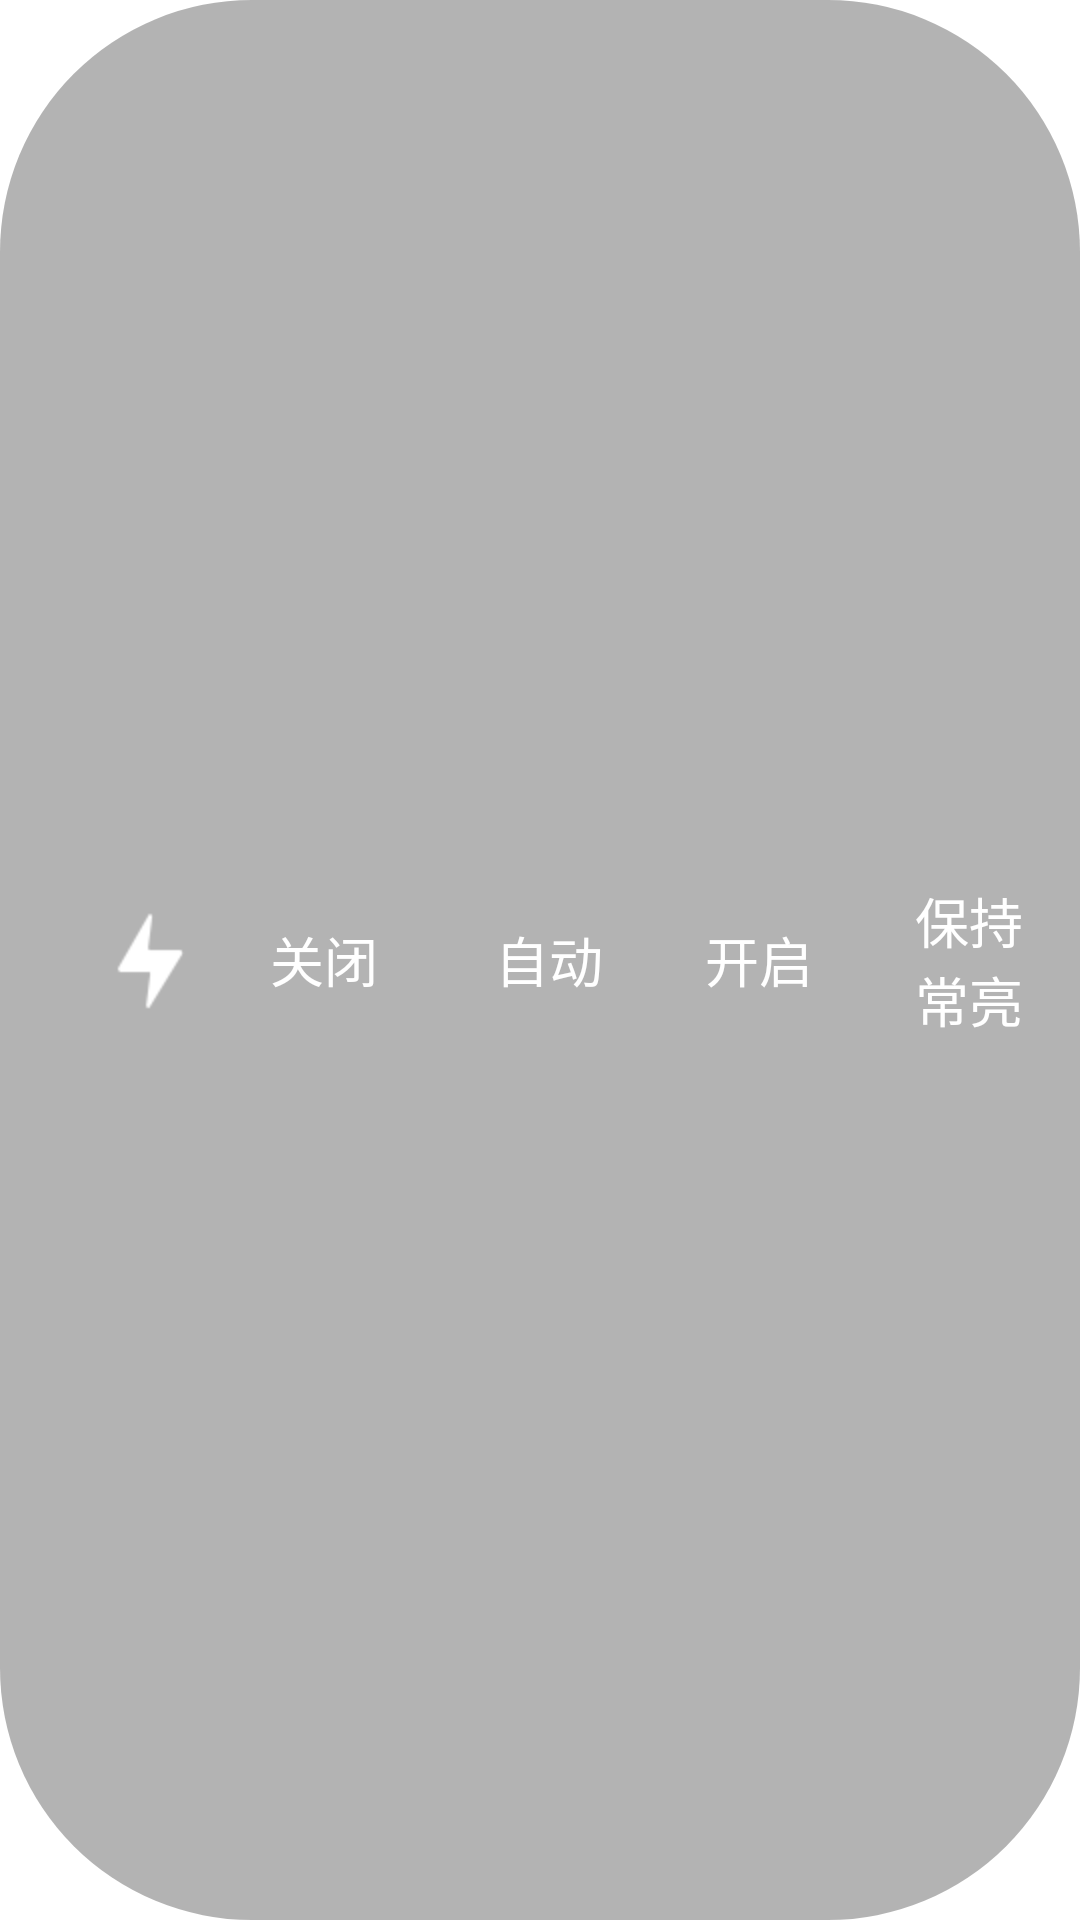

Where icons sit on this 1080 × 1920 app screen, as rect(x1, y1, x2, y2):
flash on: rect(118, 914, 182, 1008)
